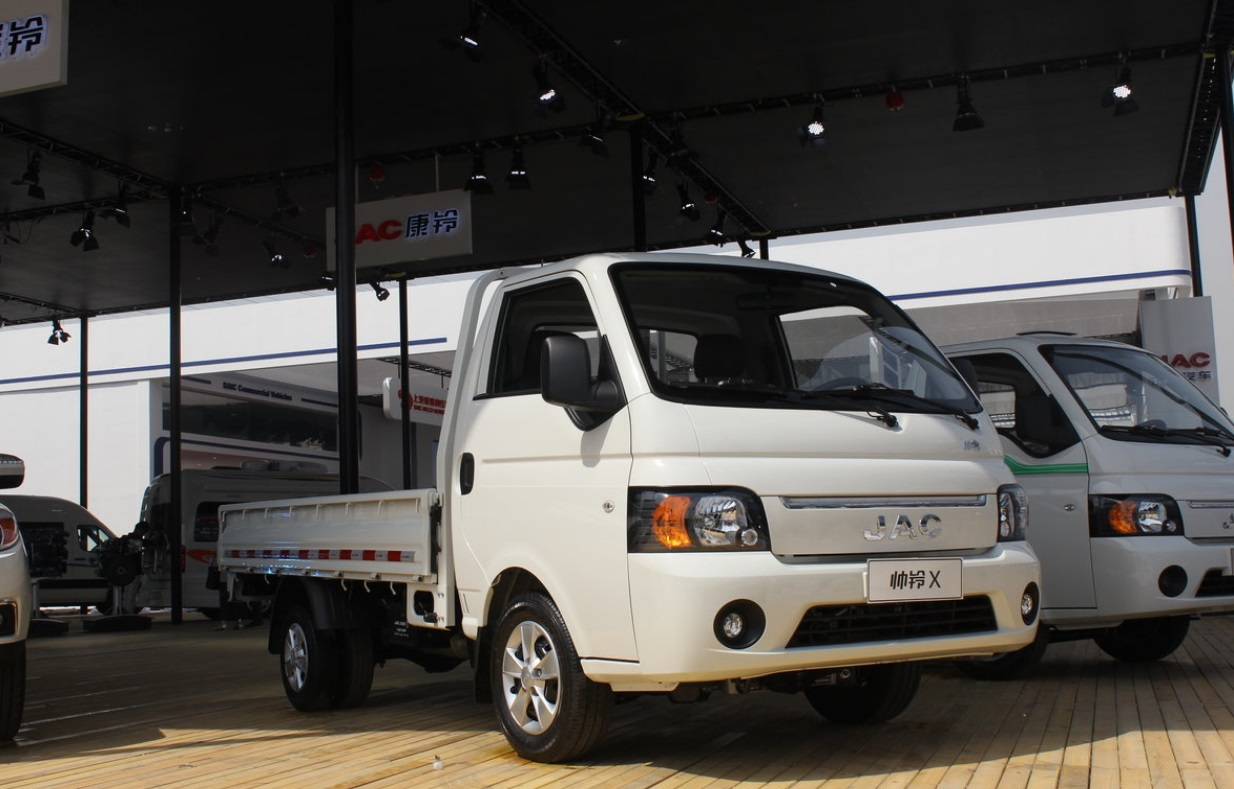truck: (215, 247, 1051, 767)
